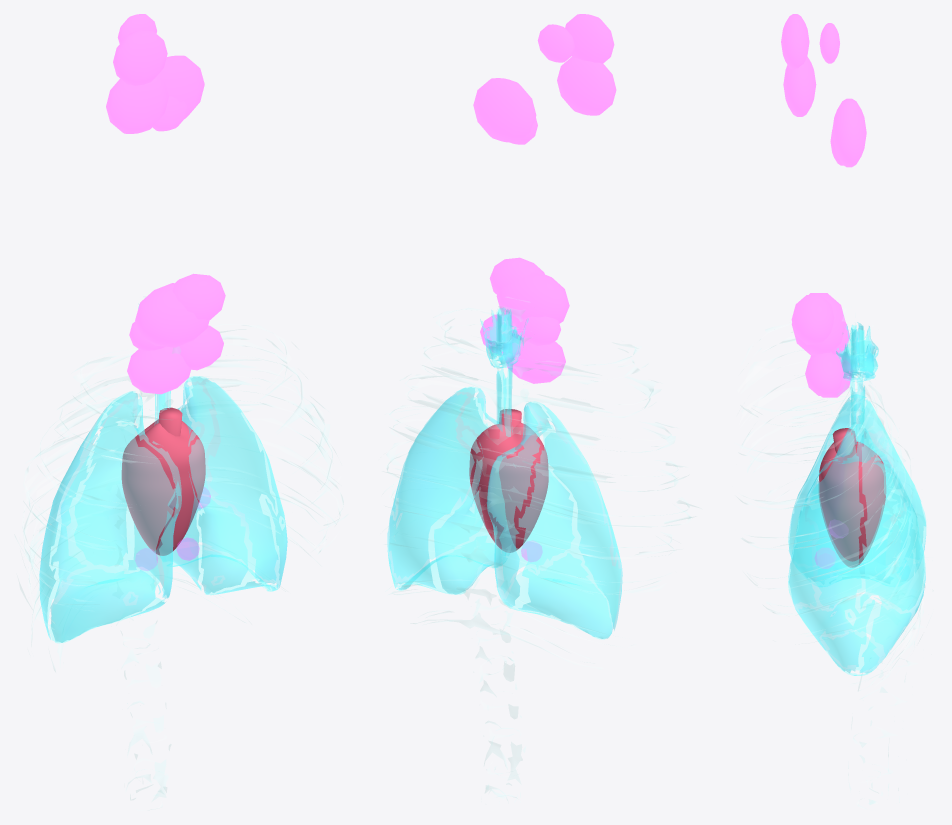
Rendered from heart-anatomical-progressing-3.glb.
3 views of the same model, side by side, from view 1: azimuth 30°, elevation 25°; view 2: azimuth 150°, elevation 25°; view 3: azimuth 270°, elevation 25° (orthographic). The views are drawn at different scales.
Parts seen in each view (by area): view 1: Lungs, Ribcage, Heart, AmyloidAnat_5, AmyloidAnat_0, AmyloidAnat_2, AmyloidAnat_7, AmyloidAnat_8, AmyloidAnat_1, AmyloidAnat_6, AmyloidAnat_4, AmyloidAnat_3; view 2: Lungs, Ribcage, Heart, AmyloidAnat_1, AmyloidAnat_5, AmyloidAnat_0, AmyloidAnat_7, AmyloidAnat_2, AmyloidAnat_3, AmyloidAnat_9, AmyloidAnat_8, AmyloidAnat_6; view 3: Lungs, Heart, Ribcage, AmyloidAnat_1, AmyloidAnat_8, AmyloidAnat_0, AmyloidAnat_6, AmyloidAnat_2, AmyloidAnat_5, AmyloidAnat_3, AortaAnat, AmyloidAnat_7.
Boxes of the visible parts, <box> form: Lungs: <box>39,304,287,642</box>; Ribcage: <box>15,296,346,808</box>; Heart: <box>121,419,205,555</box>; AmyloidAnat_5: <box>135,283,209,347</box>; AmyloidAnat_0: <box>106,75,168,133</box>; AmyloidAnat_2: <box>113,30,167,85</box>; AmyloidAnat_7: <box>127,346,190,394</box>; AmyloidAnat_8: <box>172,273,225,320</box>; AmyloidAnat_1: <box>157,55,204,118</box>; AmyloidAnat_6: <box>176,325,223,370</box>; AmyloidAnat_4: <box>152,96,187,131</box>; AmyloidAnat_3: <box>117,14,156,43</box>; Lungs: <box>387,307,622,639</box>; Ribcage: <box>385,297,698,802</box>; Heart: <box>469,422,548,552</box>; AmyloidAnat_1: <box>473,78,536,142</box>; AmyloidAnat_5: <box>496,272,569,324</box>; AmyloidAnat_0: <box>557,56,616,115</box>; AmyloidAnat_7: <box>505,337,565,383</box>; AmyloidAnat_2: <box>565,14,614,63</box>; AmyloidAnat_3: <box>537,24,574,62</box>; AmyloidAnat_9: <box>515,316,560,345</box>; AmyloidAnat_8: <box>489,257,544,294</box>; AmyloidAnat_6: <box>480,314,518,354</box>; Lungs: <box>788,322,926,675</box>; Heart: <box>818,441,885,567</box>; Ribcage: <box>737,308,925,808</box>; AmyloidAnat_1: <box>832,98,866,167</box>; AmyloidAnat_8: <box>791,295,834,344</box>; AmyloidAnat_0: <box>783,56,816,116</box>; AmyloidAnat_6: <box>805,352,843,395</box>; AmyloidAnat_2: <box>781,14,809,69</box>; AmyloidAnat_5: <box>791,293,846,355</box>; AmyloidAnat_3: <box>819,23,839,63</box>; AortaAnat: <box>832,428,856,456</box>; AmyloidAnat_7: <box>810,351,852,397</box>.
Size of the model in its own units: 1.21 by 3.03 by 0.7414.
